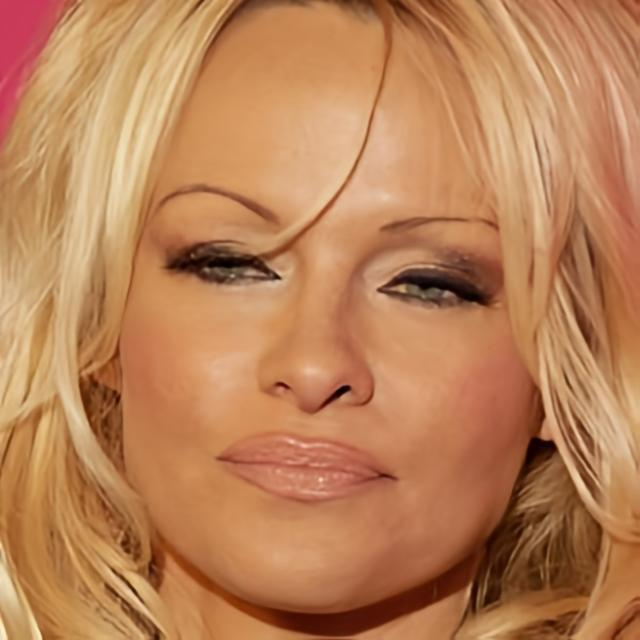content: (108, 0, 542, 616)
